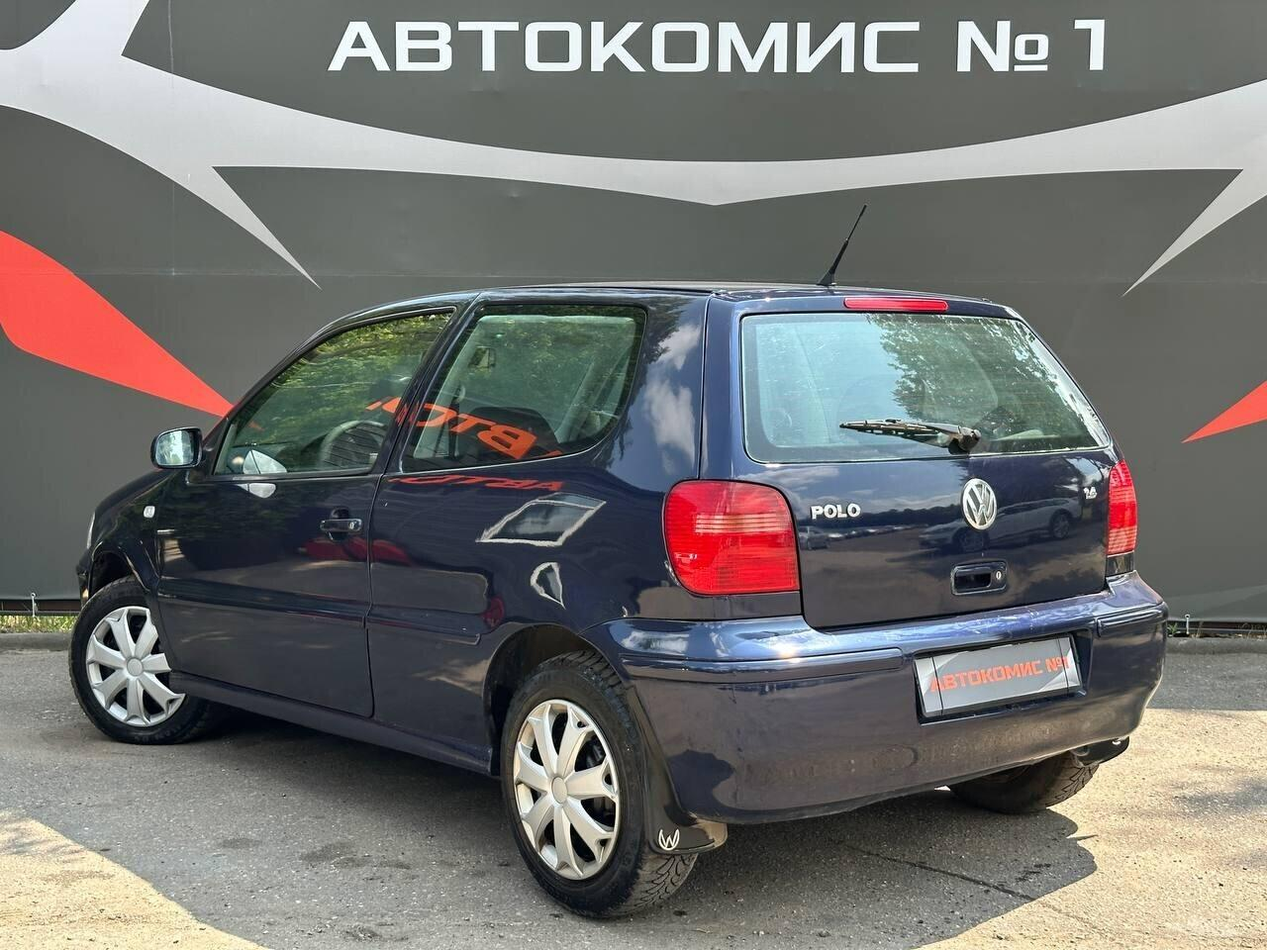Polo_2000-2002: (59, 263, 1167, 893)
